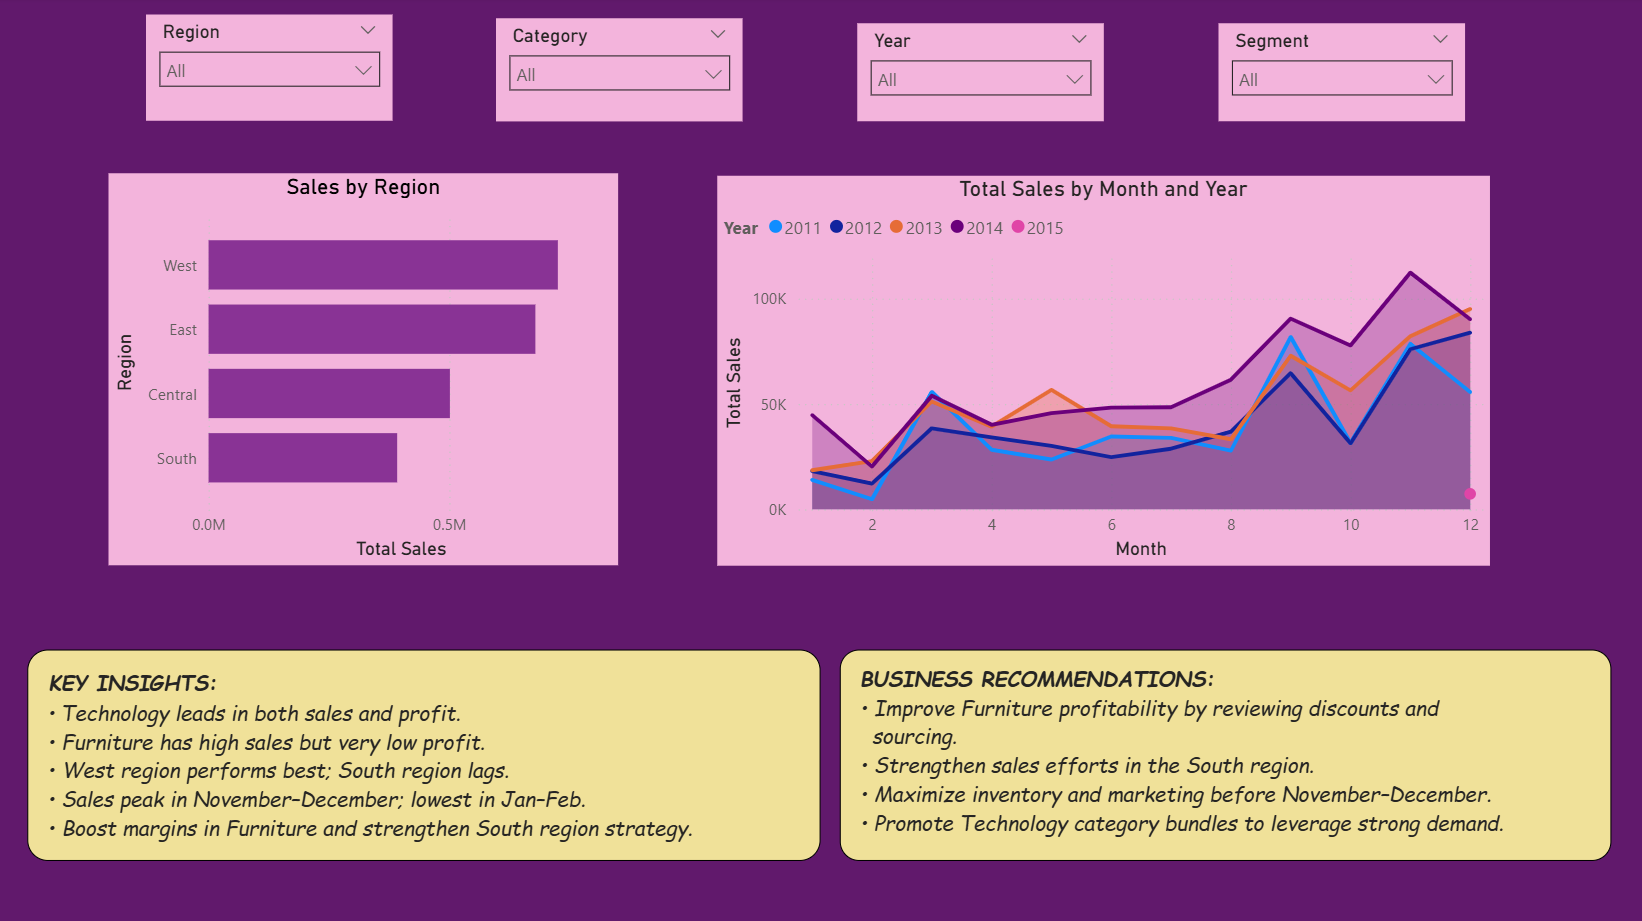

The page's visual inventory and layout, read from the dashboard file:
{"tool":"powerbi","page":{"name":"Page 2","canvas":[1280,720],"ordinal":1},"visuals":[{"type":"clusteredBarChart","title":"Sales by Region","fields":{"Category":["Orders.Region"],"Y":["Orders.Total Sales"]},"box":[87.2,136.7,395.5,304.4],"z":0},{"type":"slicer","fields":{"Values":["Orders.Region"]},"box":[116.2,13.8,191.2,82.5],"z":1000},{"type":"slicer","fields":{"Values":["Orders.Segment"]},"box":[947.5,20,191.2,76.2],"z":2000},{"type":"slicer","fields":{"Values":["Orders.Category"]},"box":[387.5,16.2,191.2,80],"z":3000},{"type":"slicer","fields":{"Values":["Orders.Year"]},"box":[667.5,20,191.2,76.2],"z":4000},{"type":"lineChart","fields":{"Category":["Orders.Month"],"Y":["Orders.Total Sales"],"Series":["Orders.Year"]},"box":[559.3,138.6,599,302.4],"z":5000},{"type":"textbox","box":[24.6,506.1,615,164.3],"z":6000},{"type":"textbox","box":[654,506.1,598.5,164.3],"z":7000}]}

Visuals, with their boxes in screenshot pixels (x1, y1, x2, y2), scaled from the page's 1280x720 canvas onto the 1642x921 screenshot:
"Sales by Region" clusteredBarChart: 112,175,619,564
slicer - Orders.Region: 149,18,394,123
slicer - Orders.Segment: 1215,26,1461,123
slicer - Orders.Category: 497,21,742,123
slicer - Orders.Year: 856,26,1102,123
lineChart - Orders.Month x Orders.Total Sales: 717,177,1486,564
textbox: 32,647,820,858
textbox: 839,647,1607,858
